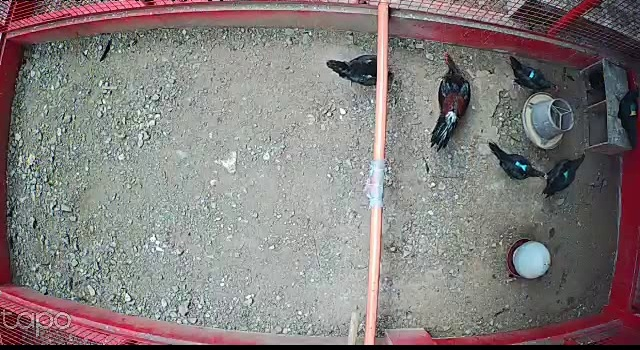Chicken: (325, 50, 399, 91), (536, 148, 588, 201), (485, 140, 547, 181), (614, 81, 640, 151)
Rooster: (430, 51, 475, 151)
Saddle_Color_Blue: (528, 70, 535, 80)
Saddle_Color_YellowGreen: (629, 103, 637, 118)
